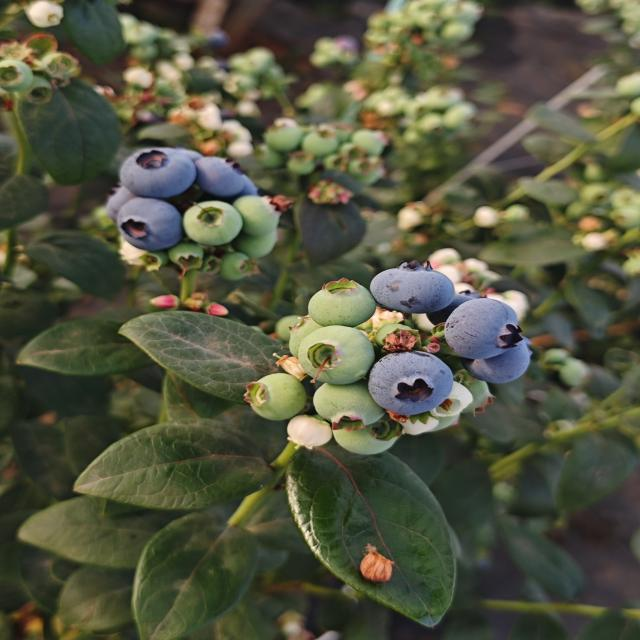ripe: (367, 349, 460, 421), (368, 258, 454, 316), (110, 152, 205, 200), (452, 296, 520, 361), (459, 334, 534, 388), (118, 201, 180, 257), (424, 285, 491, 334), (195, 155, 259, 201), (96, 180, 162, 223)
